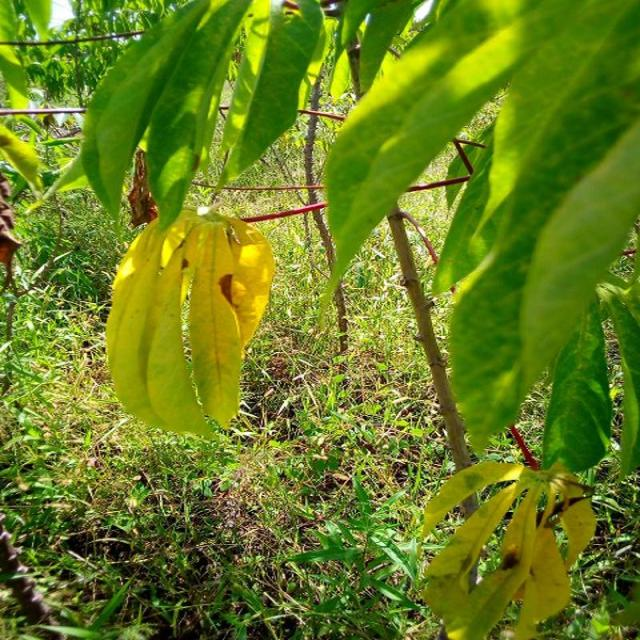cassava leaf: (319, 0, 638, 453), (105, 204, 274, 439)
